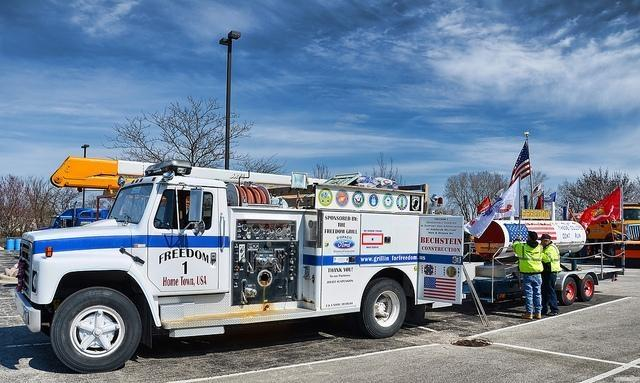truck: (16, 182, 472, 372)
